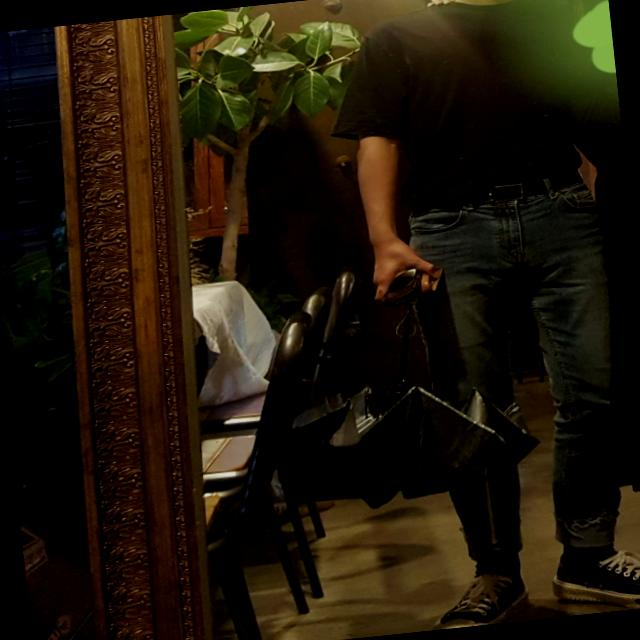denimpants: (405, 176, 640, 563)
shortsleeve: (324, 0, 624, 200)
